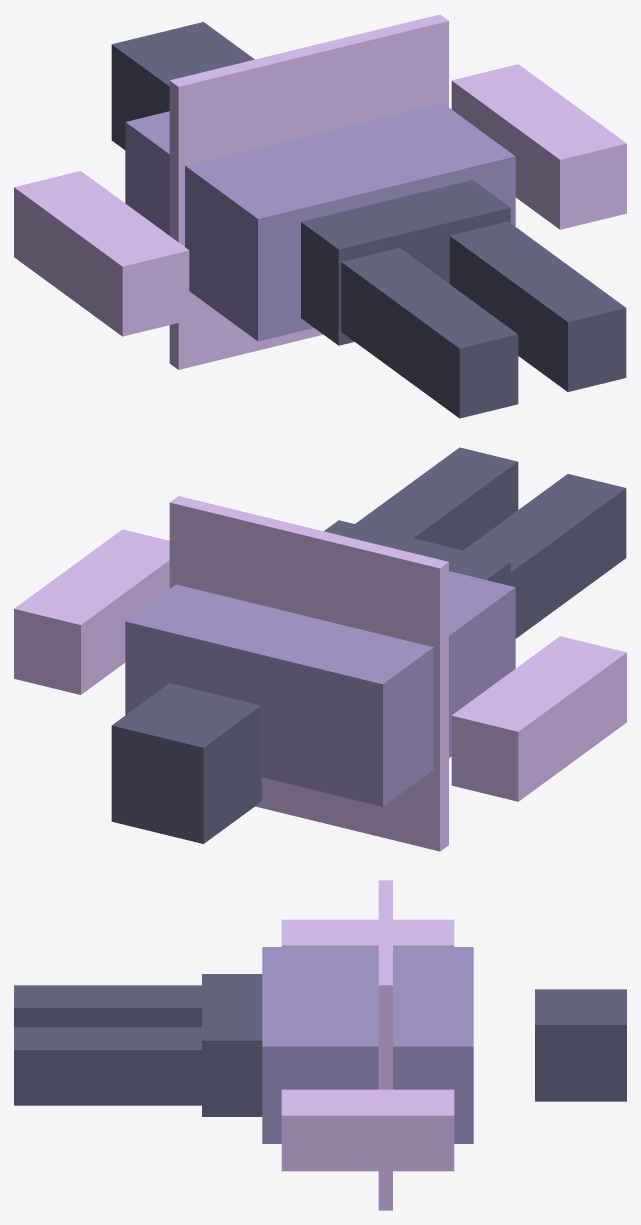
File: orion-vell_male_battle.glb
The picture shows the model from 3 angles, top to bottom: view 1: azimuth 30°, elevation 25°; view 2: azimuth 150°, elevation 25°; view 3: azimuth 270°, elevation 25°; orthographic projection. The views are drawn at different scales.
Visible parts, largest first — view 1: orion-vell_male_body; view 2: orion-vell_male_body; view 3: orion-vell_male_body.
Boxes of the visible parts, left/top/right/bottom form: orion-vell_male_body: left=14, top=14, right=626, bottom=418; orion-vell_male_body: left=14, top=447, right=626, bottom=851; orion-vell_male_body: left=14, top=880, right=626, bottom=1210.
Bounding box in the file's own units: 1.31 × 0.7 × 1.73.
